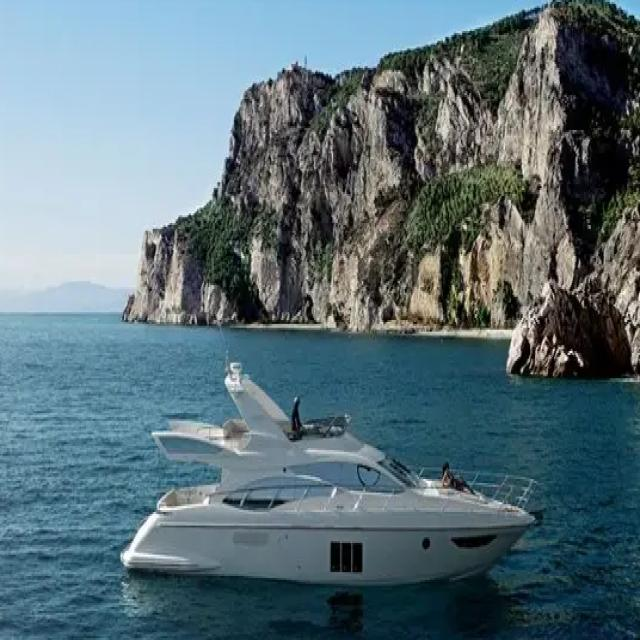houseboat: (118, 339, 544, 613)
